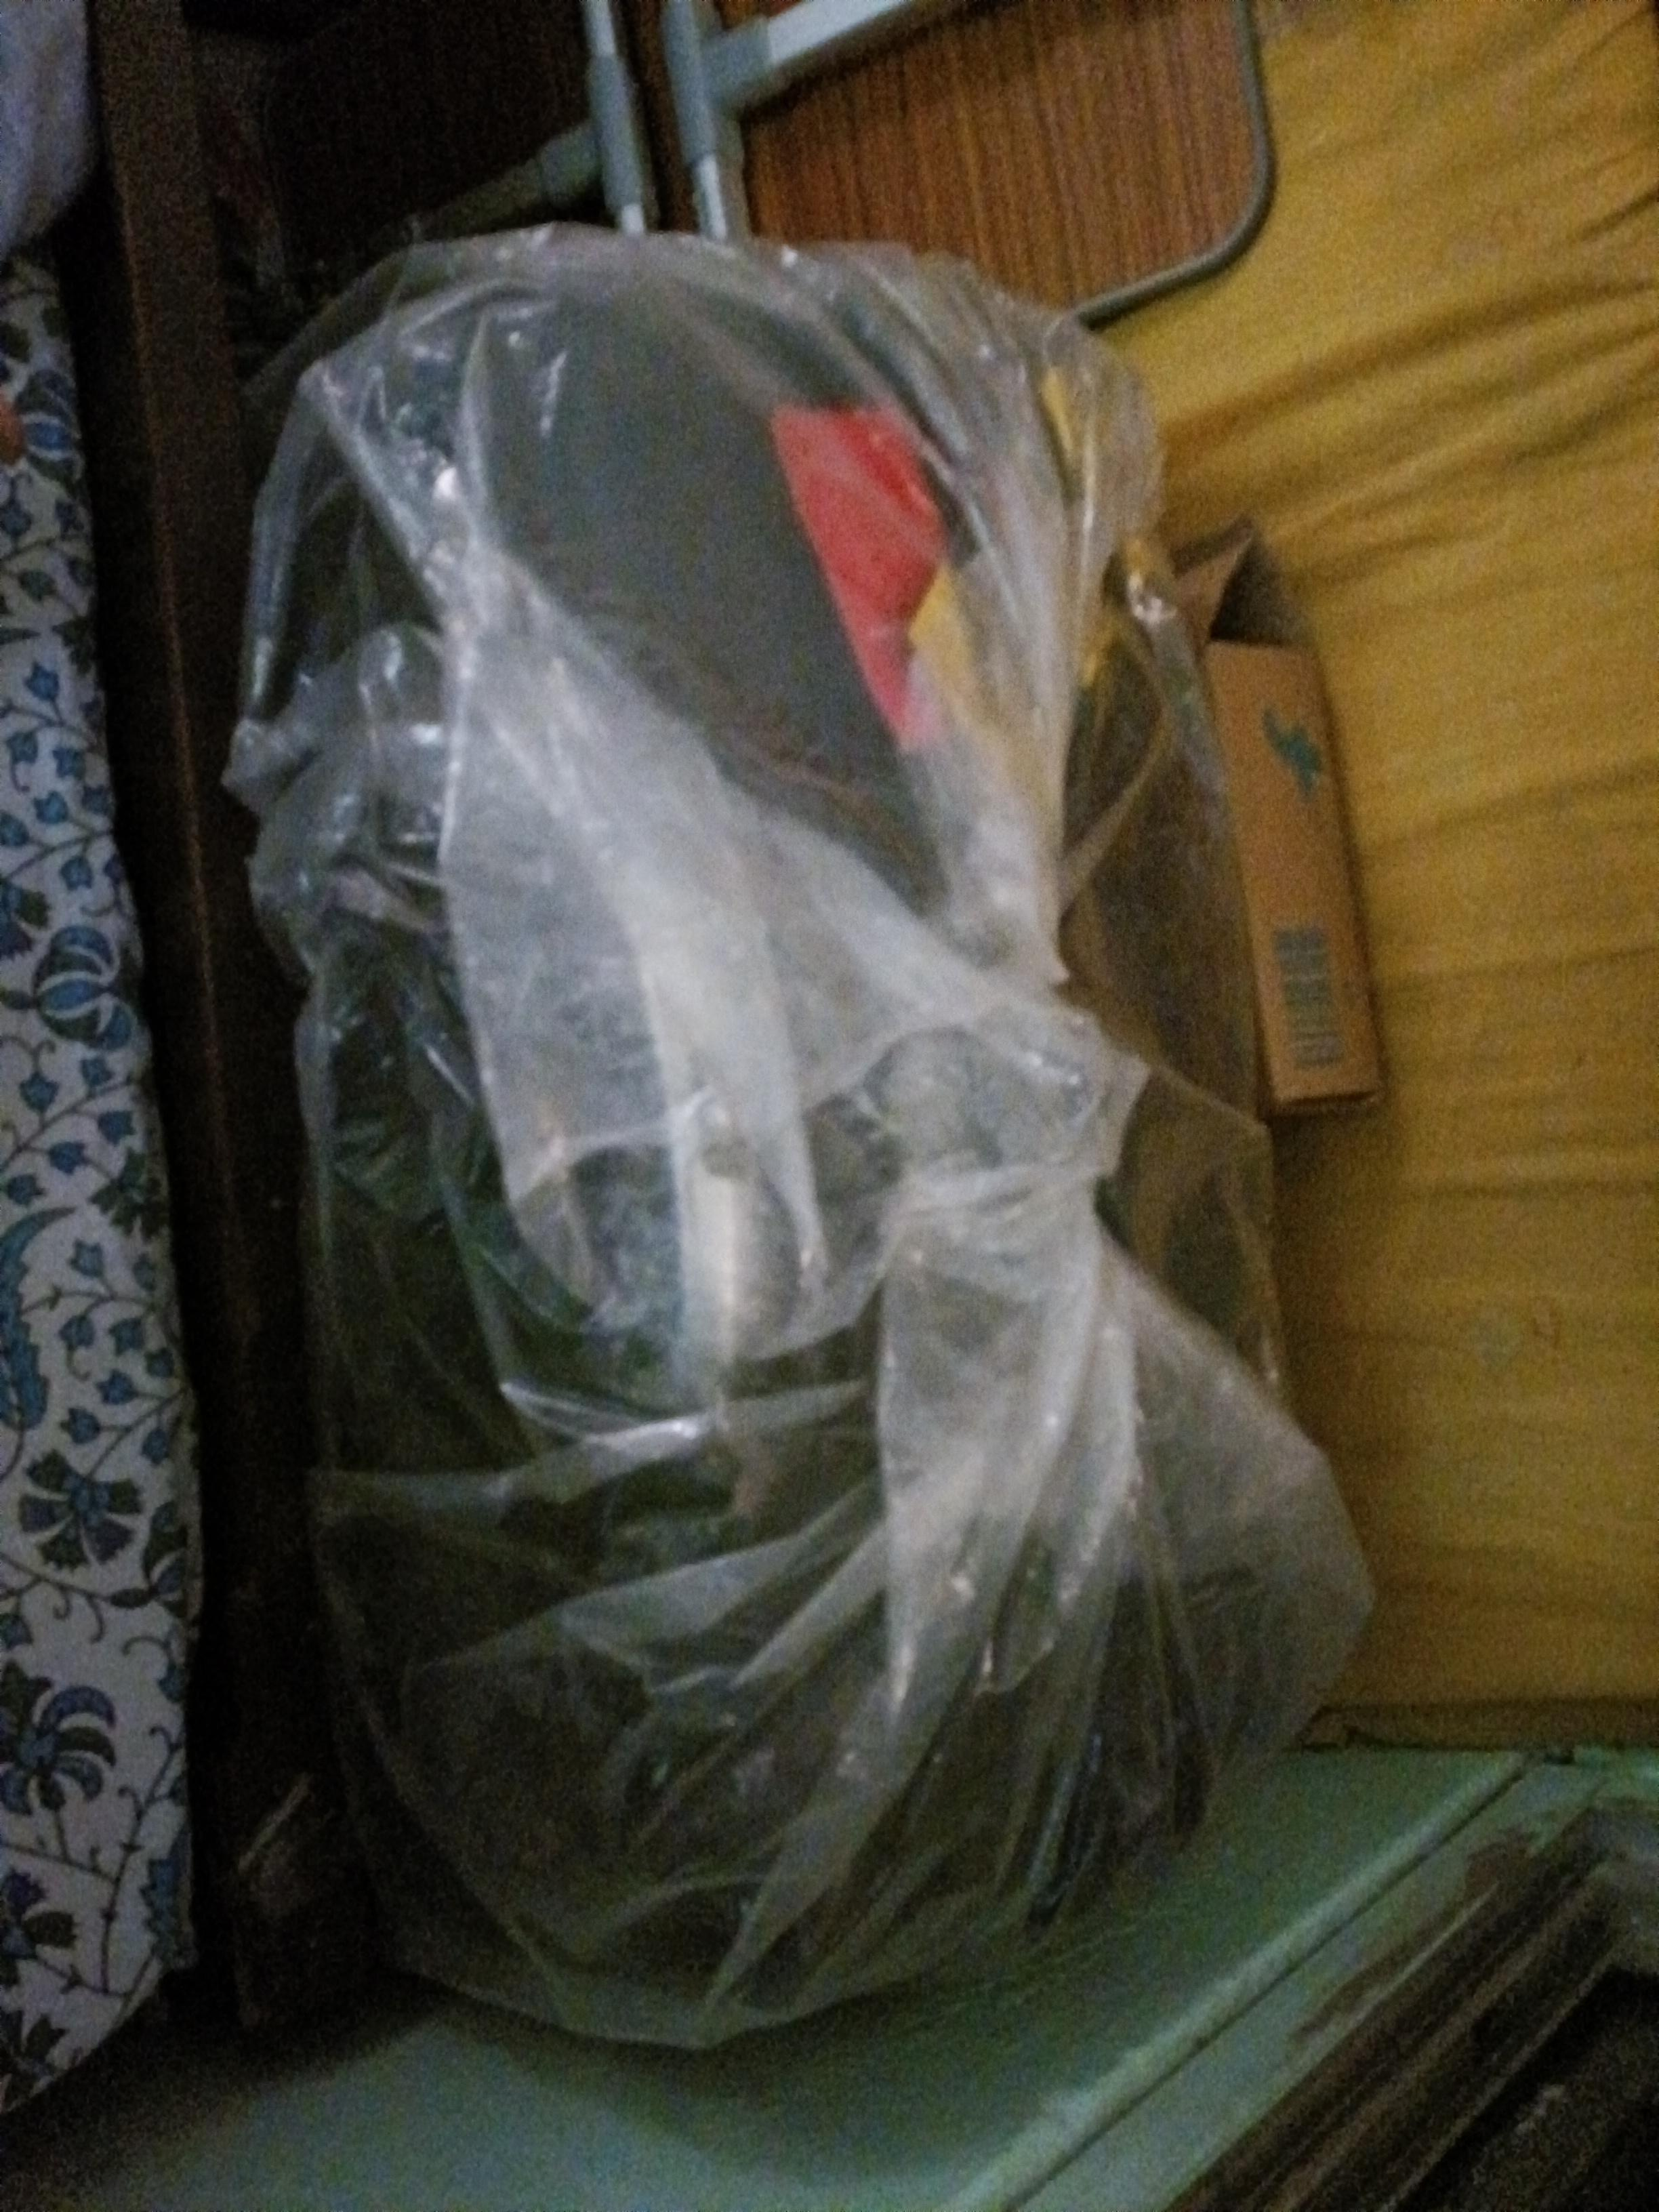suitcase: (223, 226, 1378, 2057)
